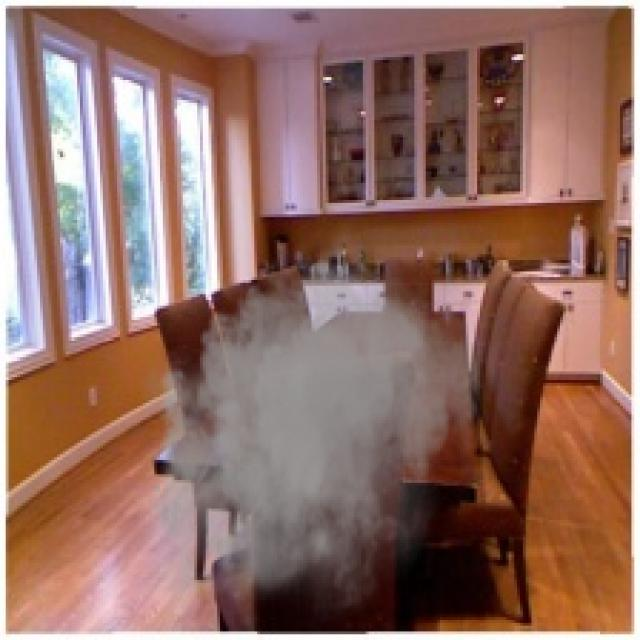smoke: (134, 237, 494, 632)
